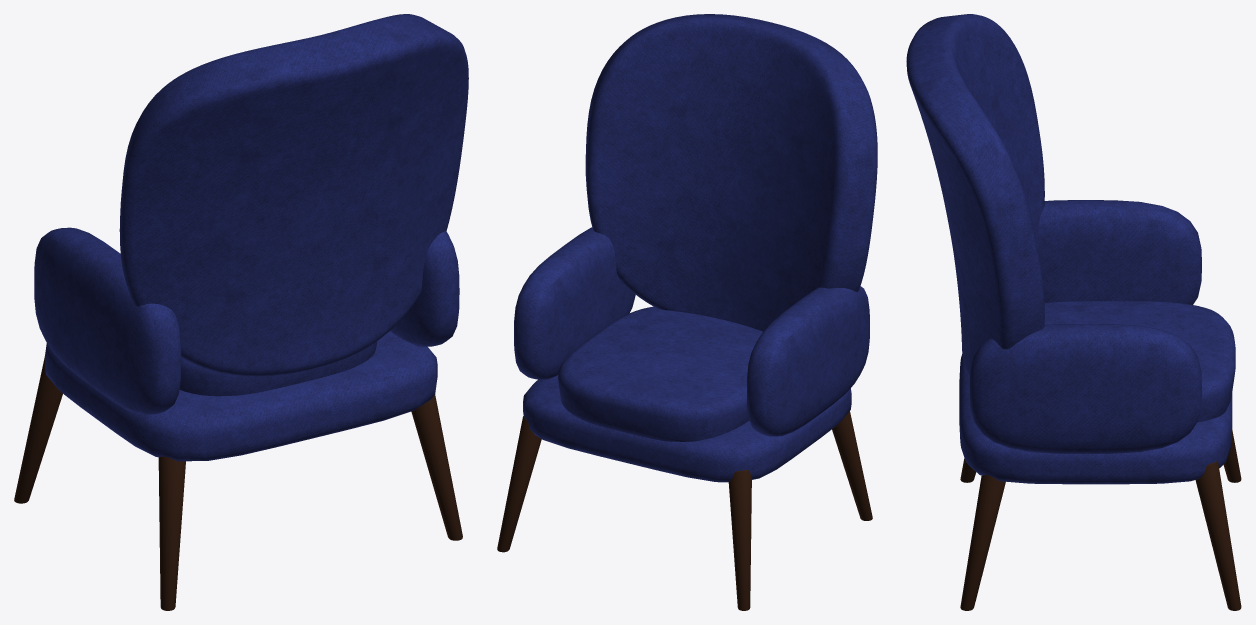
Rendered from armchair_blue.glb.
3 views of the same model, side by side, from view 1: azimuth 30°, elevation 25°; view 2: azimuth 150°, elevation 25°; view 3: azimuth 270°, elevation 25° (orthographic). The views are drawn at different scales.
Parts seen in each view (by area): view 1: armchair_blue; view 2: armchair_blue; view 3: armchair_blue.
Part boxes in pixels (bbox=[...]): armchair_blue: bbox=[14, 14, 468, 610]; armchair_blue: bbox=[497, 14, 877, 610]; armchair_blue: bbox=[906, 14, 1241, 610].
Bounding box in the file's own units: 0.7128 × 1.09 × 0.6628.
Materials: 2 (2 with a texture image).
